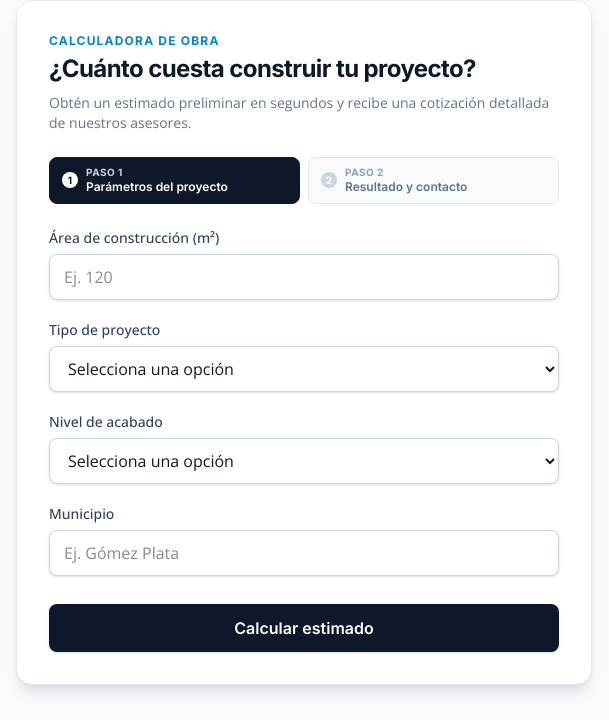
BudgetCalculator › muestra un error de validación cuando el área de construcción es negativa
In the number field labelled "Área de construcción (m²)": (304, 276) x1=49 y1=254 x2=559 y2=300, type "-10"
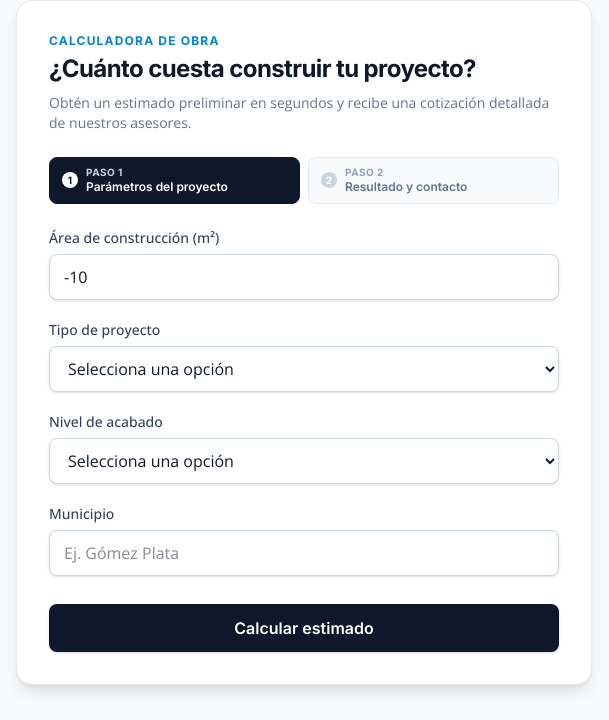
Select "Vivienda" in the dropdown labelled "Tipo de proyecto": (304, 368) x1=49 y1=346 x2=559 y2=392
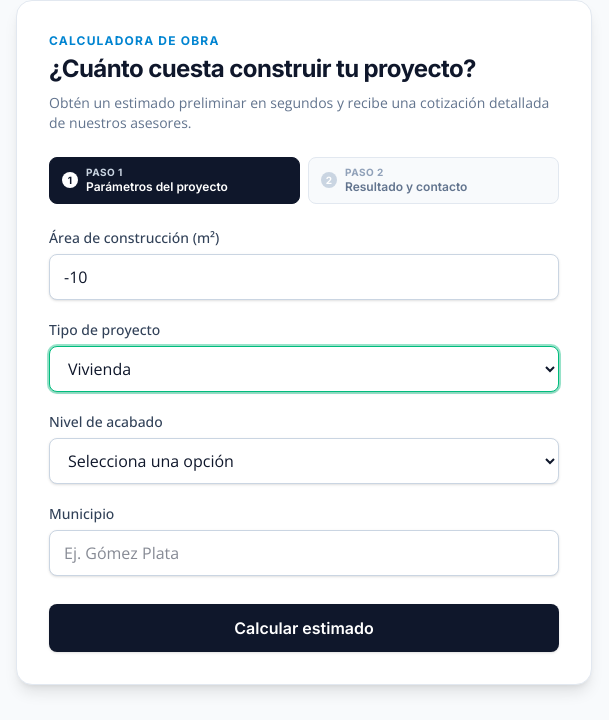
Select "Medio" in the dropdown labelled "Nivel de acabado": (304, 460) x1=49 y1=438 x2=559 y2=484
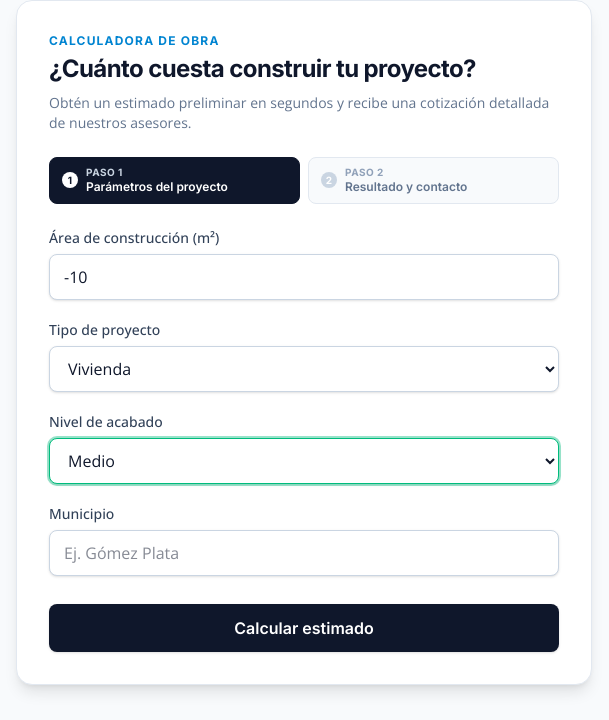
In the field labelled "Municipio": (304, 552) x1=49 y1=530 x2=559 y2=576, type "Gómez Plata"
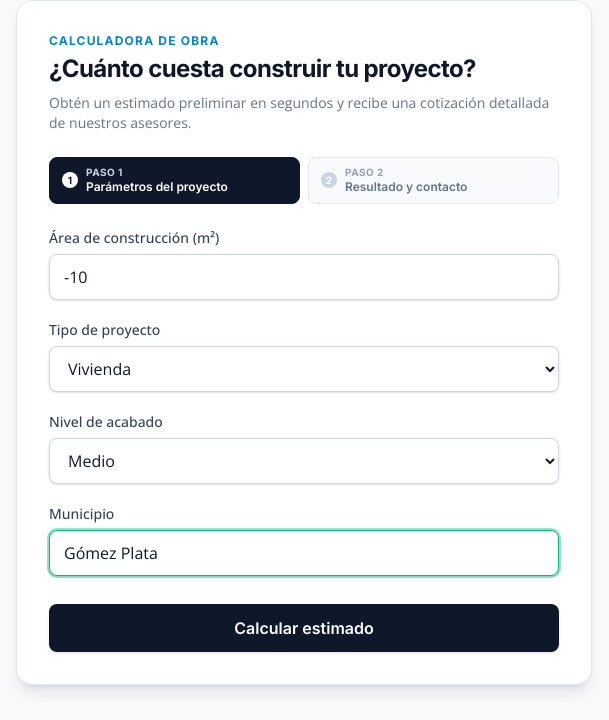
Click the button "Calcular estimado": (304, 628) x1=49 y1=604 x2=559 y2=652
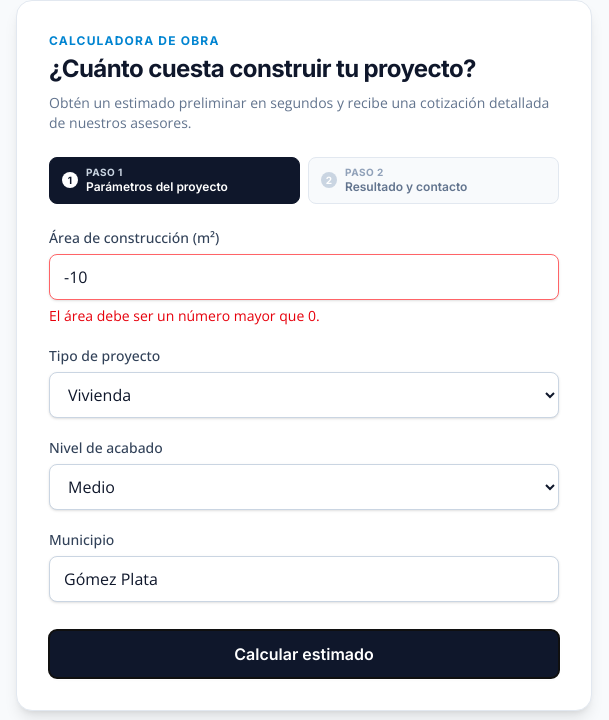
Check: the text "El área debe ser un número mayor que 0." is shown, box x1=49 y1=306 x2=320 y2=324
